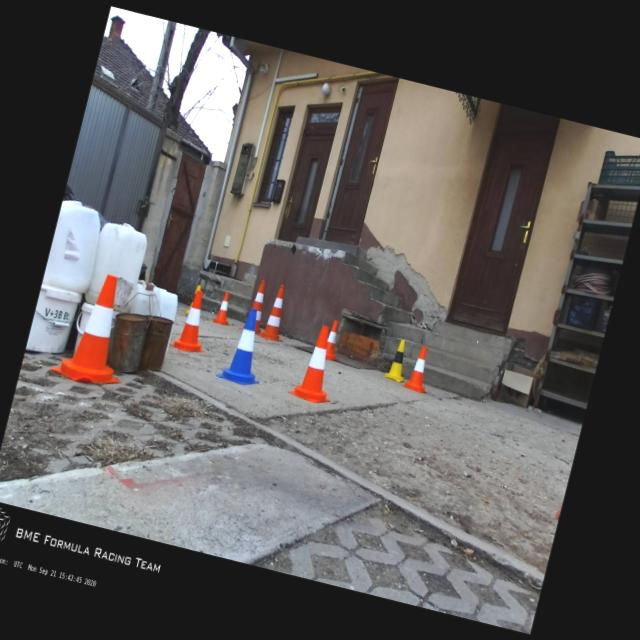blue_cone: (215, 304, 276, 388)
large_orange_cone: (256, 282, 296, 343), (238, 276, 274, 336)
orange_cone: (49, 266, 144, 390), (287, 322, 347, 406), (168, 286, 218, 355), (401, 342, 436, 393), (322, 319, 345, 361), (212, 290, 236, 326)
yellow_cone: (383, 336, 414, 384)
